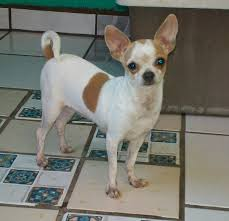chihuahua: (17, 8, 185, 210)
